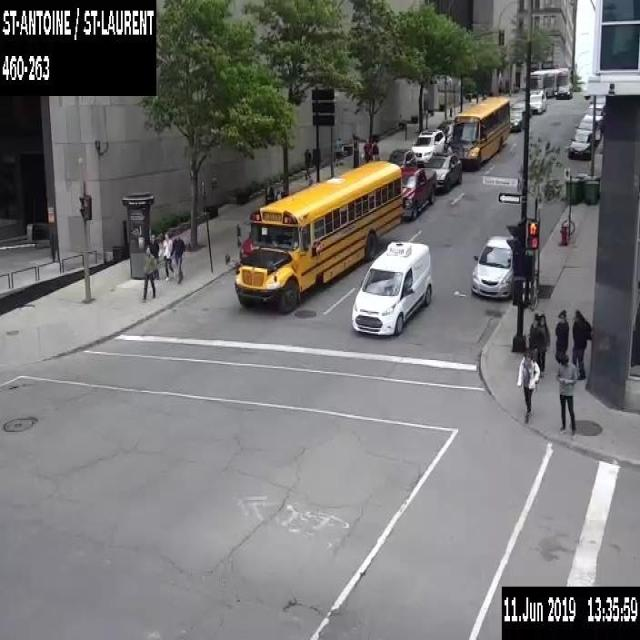bus: (225, 158, 401, 311), (450, 96, 509, 163), (529, 66, 568, 95)
pedestrian: (554, 352, 578, 434), (515, 347, 540, 424), (572, 307, 592, 380), (528, 312, 549, 381), (140, 244, 157, 300), (554, 308, 568, 375), (170, 233, 185, 282), (161, 232, 174, 280), (148, 233, 160, 279), (264, 180, 276, 204), (304, 146, 312, 178), (334, 136, 343, 164), (362, 137, 371, 161), (372, 139, 378, 159)
vehicle: (351, 240, 431, 335), (470, 232, 513, 300), (400, 166, 436, 219), (424, 152, 461, 192), (410, 127, 445, 165), (567, 127, 591, 158), (574, 116, 600, 141), (389, 148, 416, 170), (435, 119, 454, 148), (529, 90, 546, 113), (508, 109, 524, 131), (583, 113, 603, 129), (238, 236, 252, 258), (511, 100, 530, 116), (588, 103, 605, 118), (555, 84, 571, 98), (596, 97, 605, 110)
